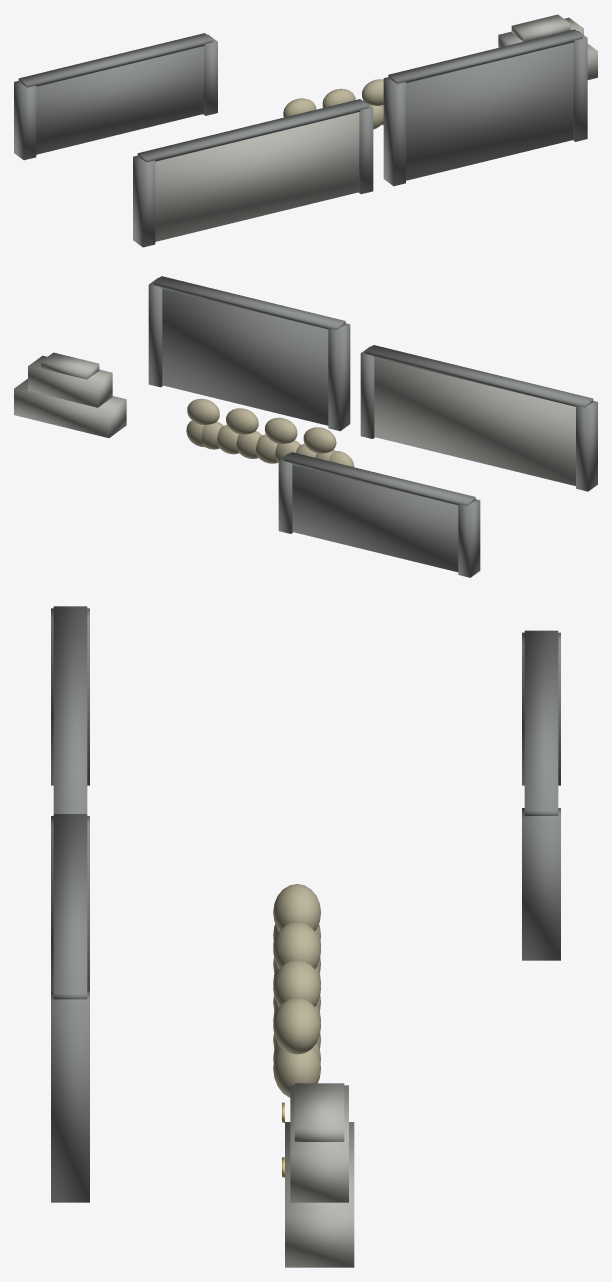
The model's file is cover.glb.
The picture shows the model from 3 angles, top to bottom: view 1: azimuth 30°, elevation 25°; view 2: azimuth 150°, elevation 25°; view 3: azimuth 270°, elevation 25°; orthographic projection. The views are drawn at different scales.
Visible parts, largest first — view 1: COL__cover; view 2: COL__cover; view 3: COL__cover.
Part boxes in pixels (x1=…): COL__cover: x1=14, y1=14, x2=597, y2=247; COL__cover: x1=14, y1=276, x2=597, y2=577; COL__cover: x1=51, y1=606, x2=560, y2=1267.
Size of the model in its own units: 14.5 by 2.8 by 6.3.
